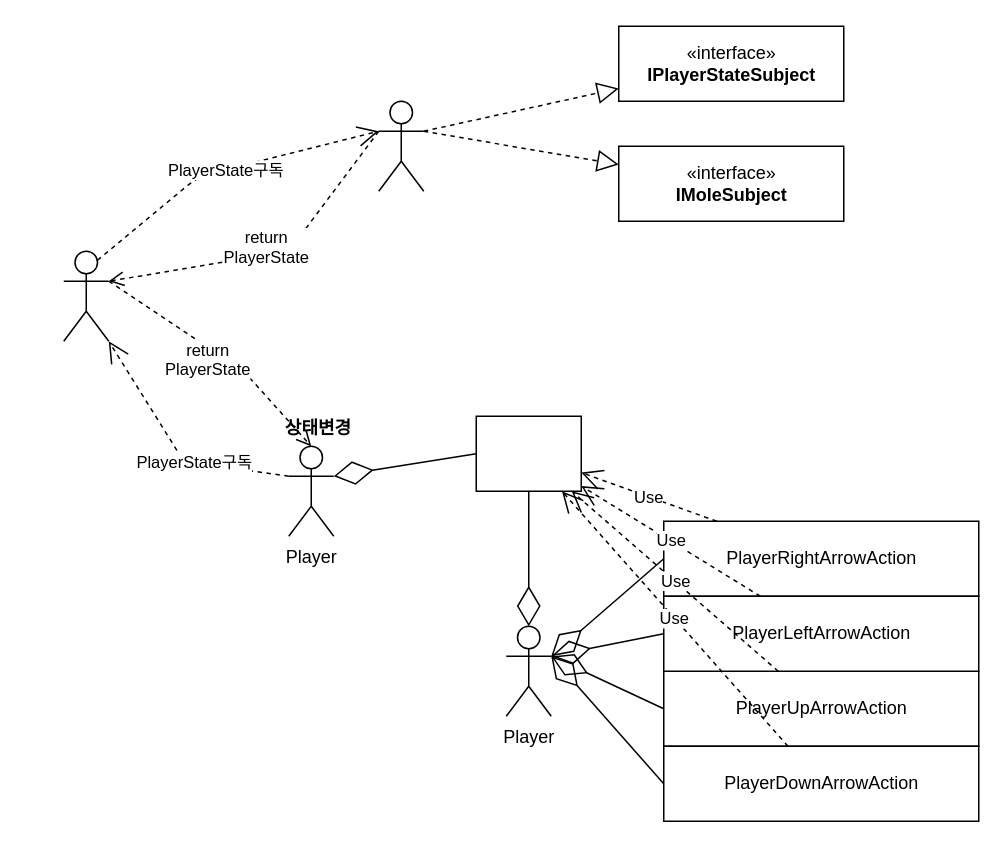
The diagram is 1005 pixels wide and 849 high, and some of its shapes have lost their labels. The shapes that lost their labels are listed below. From the top down, each one's centre as x and y in pixels, then its label:
At pixel 400 145: "RaiseHole".
At pixel 85 295: "PlayerManager".
At pixel 528 453: "cursor".
